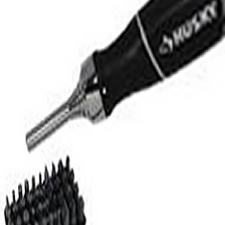screwdriver: (24, 1, 225, 152)
